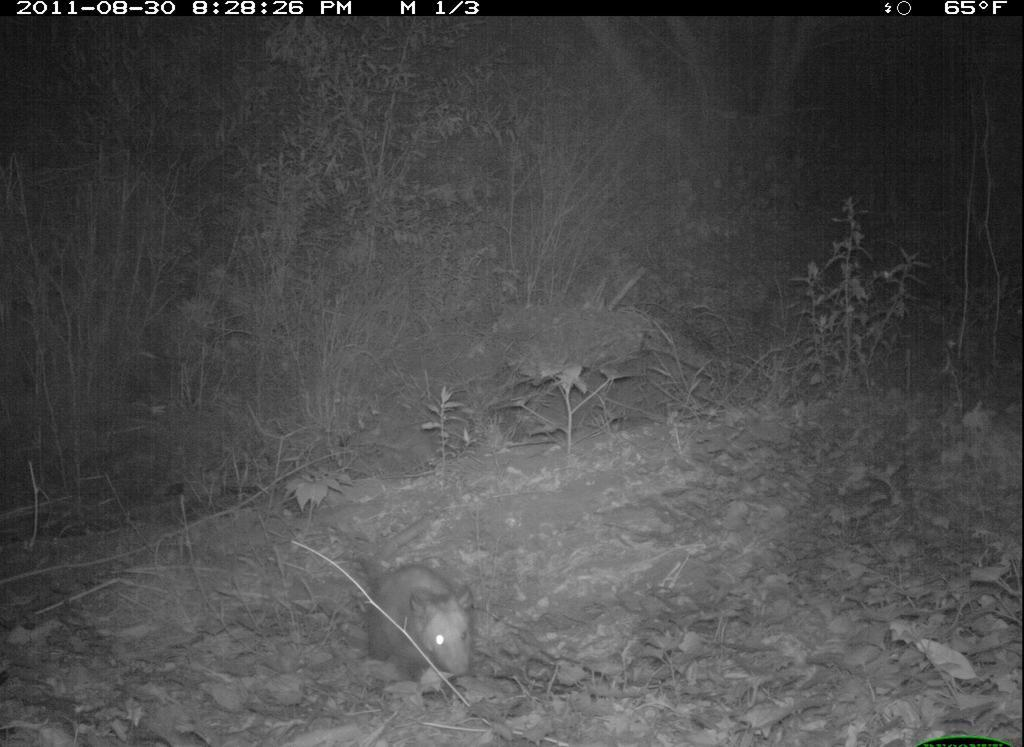opossum: (341, 539, 486, 692)
